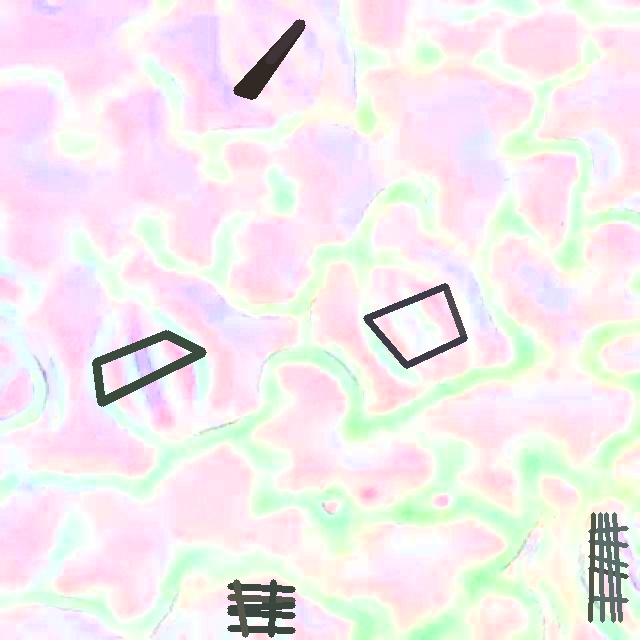close: (363, 283, 467, 368), (227, 580, 294, 637)
open: (93, 330, 206, 406), (234, 20, 305, 98), (589, 512, 627, 622)
